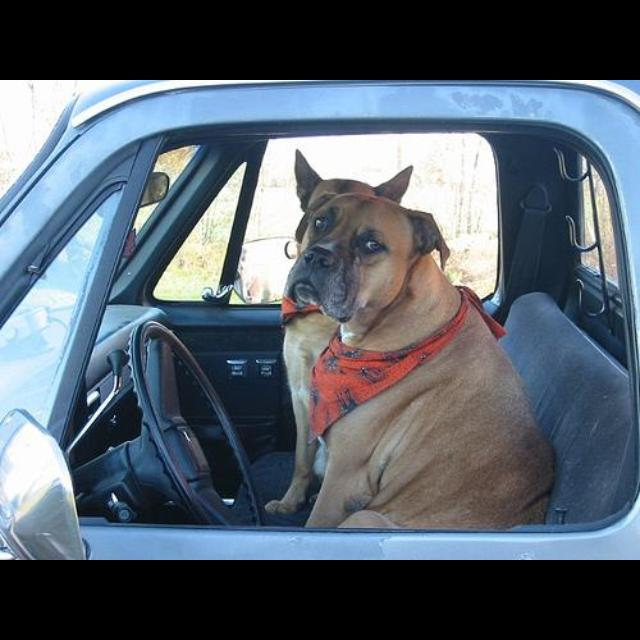bullmastiff: (286, 193, 556, 531)
